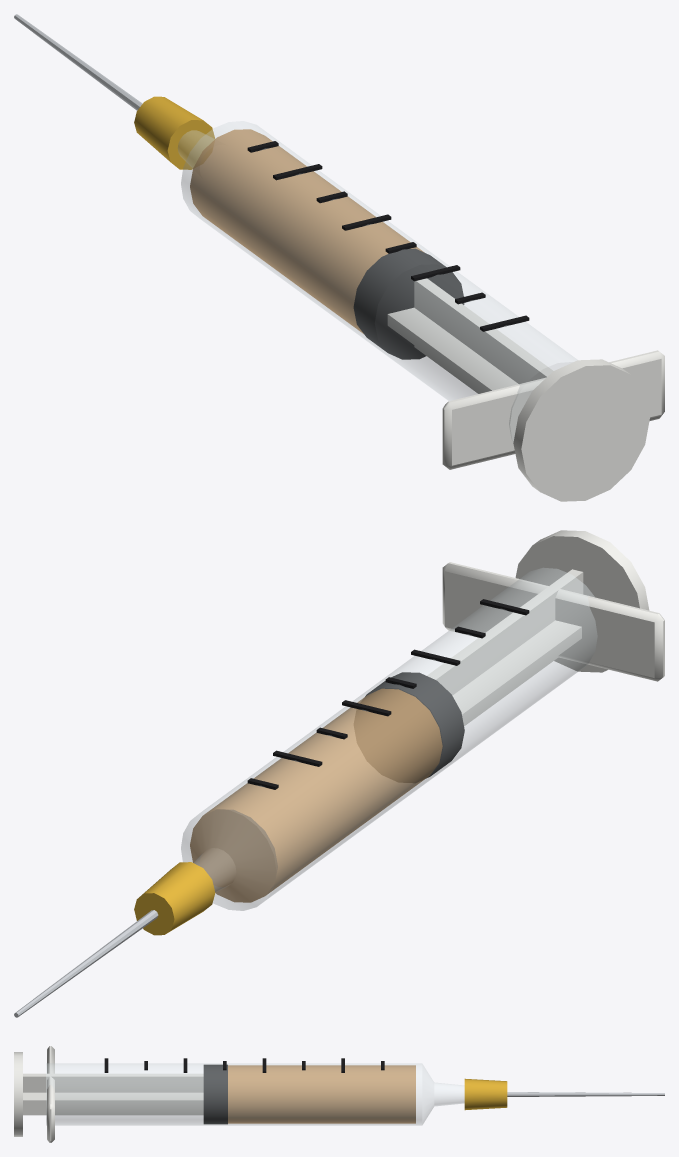
The model's file is syringe.glb.
3 renders of one model, top to bottom at view 1: azimuth 30°, elevation 25°; view 2: azimuth 150°, elevation 25°; view 3: azimuth 270°, elevation 25°, orthographic. The views are drawn at different scales.
Parts seen in each view (by area): view 1: syringe; view 2: syringe; view 3: syringe.
Boxes of the visible parts, box(x1,y1,x2,y2) form: syringe: box(14, 14, 664, 501); syringe: box(14, 530, 664, 1017); syringe: box(14, 1046, 664, 1142).
Bounding box in the file's own units: 0.035 × 0.0204 × 0.1564.
